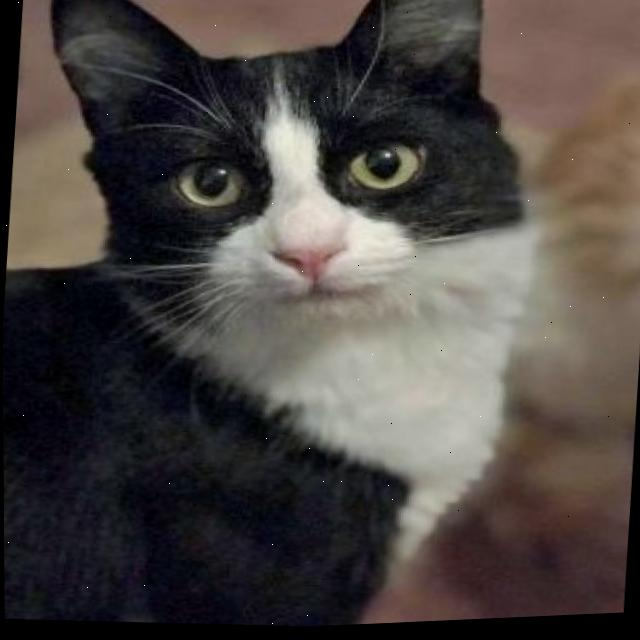Tuxedo: (0, 0, 551, 640)
